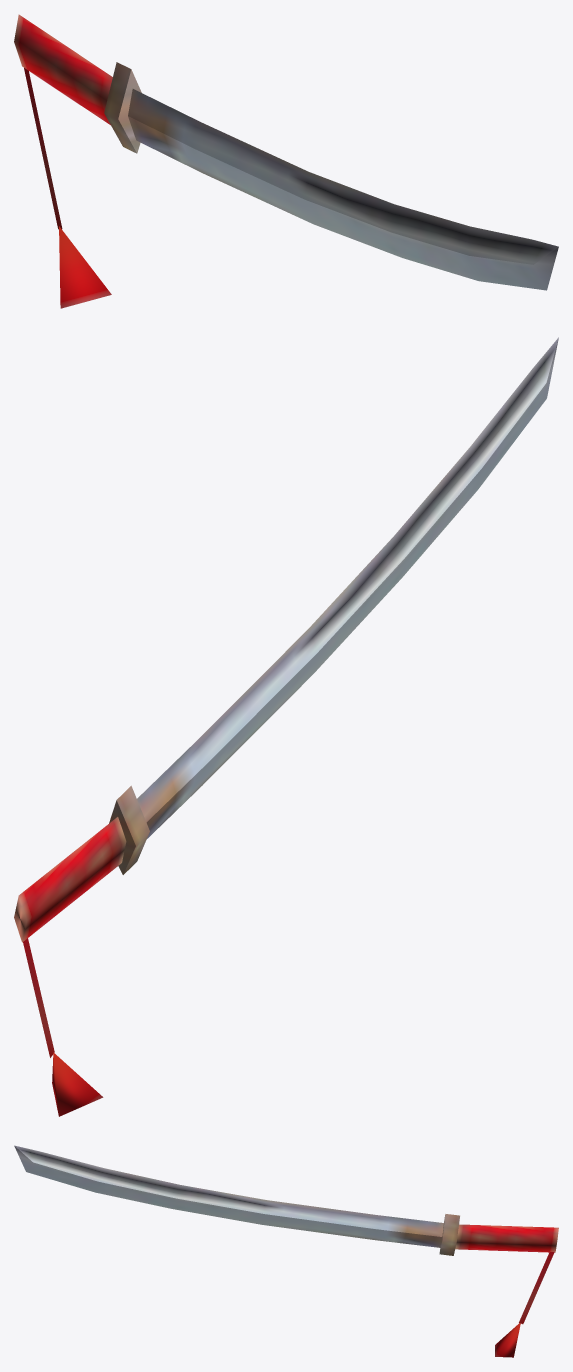
Rendered from dongyangdao.fbx.
3 renders of one model, top to bottom at view 1: azimuth 30°, elevation 25°; view 2: azimuth 150°, elevation 25°; view 3: azimuth 270°, elevation 25°, orthographic. The views are drawn at different scales.
Visible parts, largest first — view 1: SMDImport; view 2: SMDImport; view 3: SMDImport.
Part boxes in pixels (box(x1,y1,x2,y2)): SMDImport: box(14, 14, 558, 308); SMDImport: box(14, 337, 558, 1116); SMDImport: box(14, 1145, 558, 1357).
Size of the model in its own units: 20.97 by 163 by 382.
